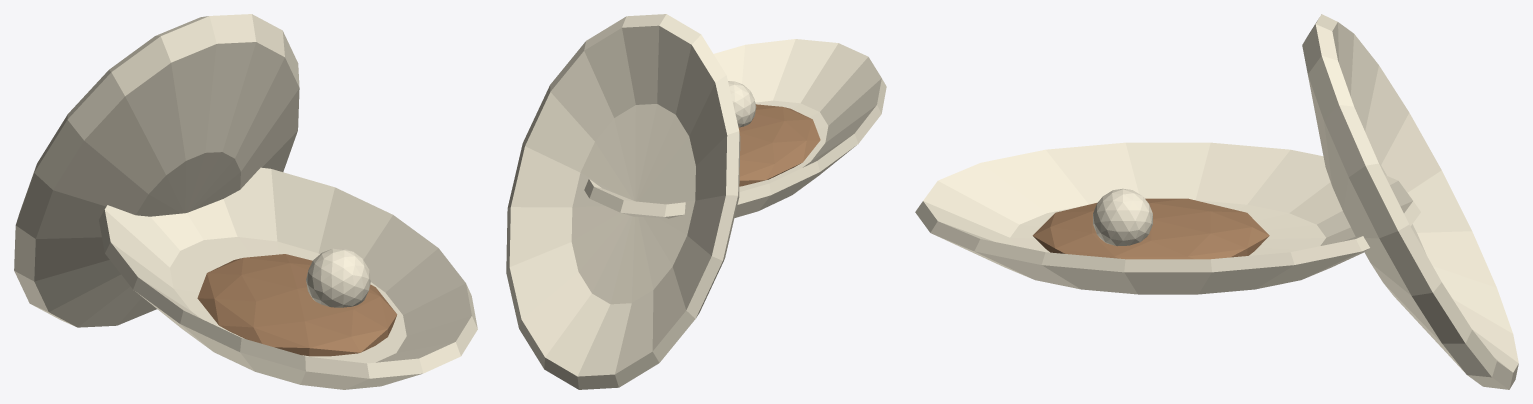
File: harbor-and-tackle-oyster-shell-2f7063f6__19591.glb
3 views of the same model, side by side, from view 1: azimuth 30°, elevation 25°; view 2: azimuth 150°, elevation 25°; view 3: azimuth 270°, elevation 25° (orthographic). The views are drawn at different scales.
Parts seen in each view (by area): view 1: ivory, cedar; view 2: ivory, cedar; view 3: ivory, cedar.
Part boxes in pixels (bbox=[...]): ivory: bbox=[14, 14, 477, 389]; cedar: bbox=[197, 254, 397, 356]; ivory: bbox=[506, 14, 886, 389]; cedar: bbox=[738, 104, 820, 186]; ivory: bbox=[915, 14, 1518, 389]; cedar: bbox=[1032, 198, 1269, 259].
Bounding box in the file's own units: 0.2521 × 0.3476 × 0.5345.
